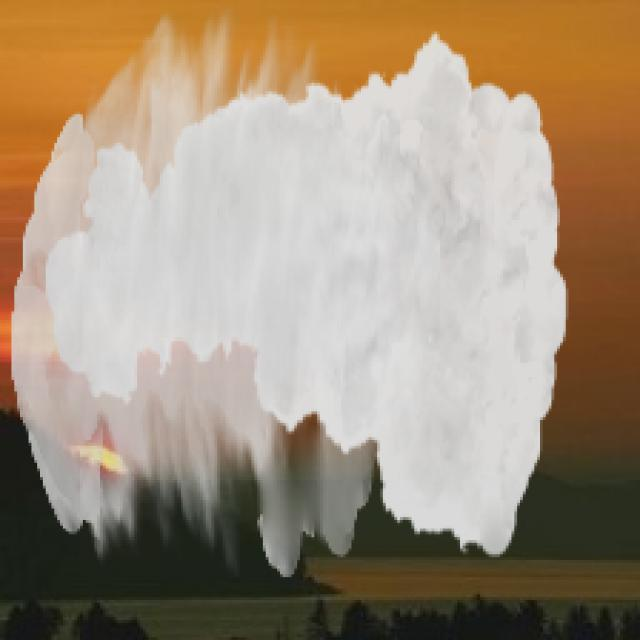Smoke: (11, 9, 568, 578)
